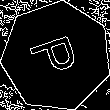P_E: (26, 31, 86, 82)
